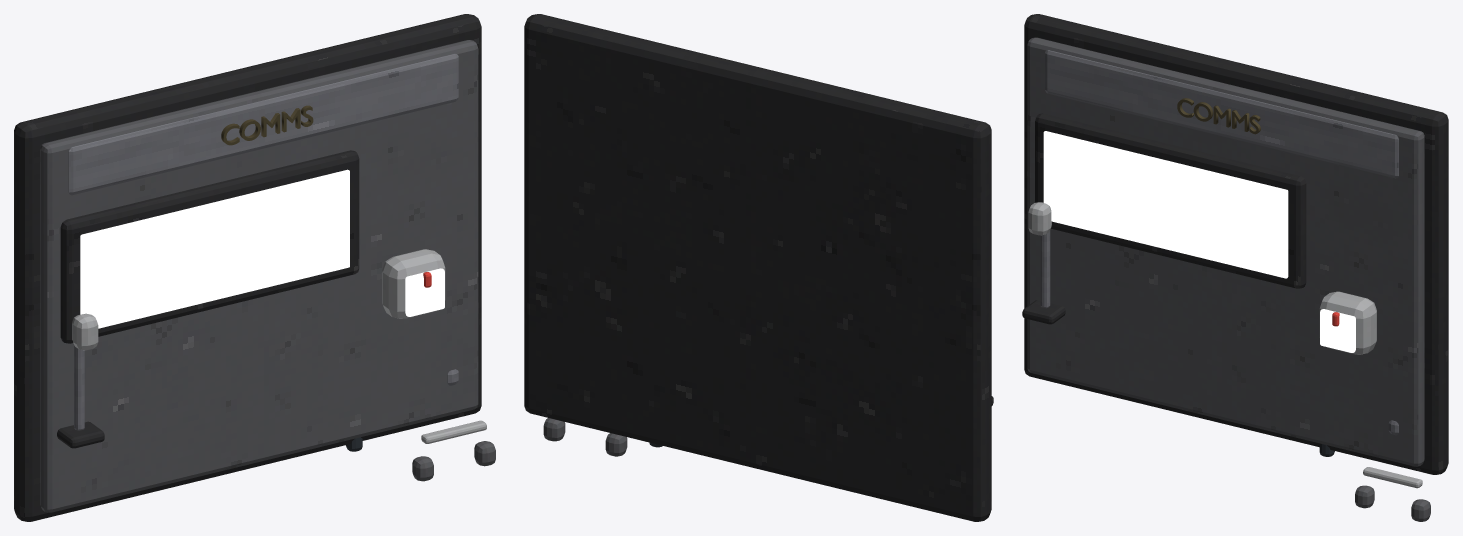
Rendered from decor_bridge_comms_console.glb.
The picture shows the model from 3 angles, left to right: view 1: azimuth 30°, elevation 25°; view 2: azimuth 150°, elevation 25°; view 3: azimuth 330°, elevation 25°; orthographic projection. The views are drawn at different scales.
Visible parts, largest first — view 1: DEC_BridgeCommsConsole__Panel_Face, DEC_BridgeCommsConsole__Panel_Back, DEC_BridgeCommsConsole__Waveform_Glow, DEC_BridgeCommsConsole__Header, DEC_BridgeCommsConsole__Waveform_Bezel, DEC_BridgeCommsConsole__Dial_Body, DEC_BridgeCommsConsole__Dial_Face, DEC_BridgeCommsConsole__Header_Text, DEC_BridgeCommsConsole__Waveform_Bar_4, DEC_BridgeCommsConsole__Mic_Stem, DEC_BridgeCommsConsole__Mic_Head, DEC_BridgeCommsConsole__Mic_Base (+3 smaller); view 2: DEC_BridgeCommsConsole__Panel_Back; view 3: DEC_BridgeCommsConsole__Panel_Face, DEC_BridgeCommsConsole__Panel_Back, DEC_BridgeCommsConsole__Waveform_Glow, DEC_BridgeCommsConsole__Header, DEC_BridgeCommsConsole__Waveform_Bezel, DEC_BridgeCommsConsole__Dial_Body, DEC_BridgeCommsConsole__Dial_Face, DEC_BridgeCommsConsole__Header_Text, DEC_BridgeCommsConsole__Waveform_Bar_4, DEC_BridgeCommsConsole__Mic_Stem, DEC_BridgeCommsConsole__Mic_Base, DEC_BridgeCommsConsole__Mic_Head (+3 smaller).
Part boxes in pixels (<box>): DEC_BridgeCommsConsole__Panel_Face: <box>40,40,478,512</box>; DEC_BridgeCommsConsole__Panel_Back: <box>14,14,481,521</box>; DEC_BridgeCommsConsole__Waveform_Glow: <box>80,169,349,328</box>; DEC_BridgeCommsConsole__Header: <box>68,54,458,195</box>; DEC_BridgeCommsConsole__Waveform_Bezel: <box>60,150,359,343</box>; DEC_BridgeCommsConsole__Dial_Body: <box>382,249,445,318</box>; DEC_BridgeCommsConsole__Dial_Face: <box>405,268,444,316</box>; DEC_BridgeCommsConsole__Header_Text: <box>221,105,313,145</box>; DEC_BridgeCommsConsole__Waveform_Bar_4: <box>204,222,221,283</box>; DEC_BridgeCommsConsole__Mic_Stem: <box>74,345,84,430</box>; DEC_BridgeCommsConsole__Mic_Head: <box>72,313,98,350</box>; DEC_BridgeCommsConsole__Mic_Base: <box>57,421,104,448</box>; DEC_BridgeCommsConsole__Panel_Back: <box>524,14,991,521</box>; DEC_BridgeCommsConsole__Panel_Face: <box>1027,37,1424,466</box>; DEC_BridgeCommsConsole__Panel_Back: <box>1024,14,1448,474</box>; DEC_BridgeCommsConsole__Waveform_Glow: <box>1043,131,1288,278</box>; DEC_BridgeCommsConsole__Header: <box>1045,50,1398,178</box>; DEC_BridgeCommsConsole__Waveform_Bezel: <box>1035,113,1306,288</box>; DEC_BridgeCommsConsole__Dial_Body: <box>1319,291,1376,354</box>; DEC_BridgeCommsConsole__Dial_Face: <box>1320,309,1355,352</box>; DEC_BridgeCommsConsole__Header_Text: <box>1177,98,1260,134</box>; DEC_BridgeCommsConsole__Waveform_Bar_4: <box>1153,177,1169,232</box>; DEC_BridgeCommsConsole__Mic_Stem: <box>1040,230,1050,308</box>; DEC_BridgeCommsConsole__Mic_Base: <box>1022,300,1065,324</box>; DEC_BridgeCommsConsole__Mic_Head: <box>1028,202,1051,235</box>.
Size of the model in its own units: 1.34 by 1.21 by 0.22.
9 materials, 4 textured.
